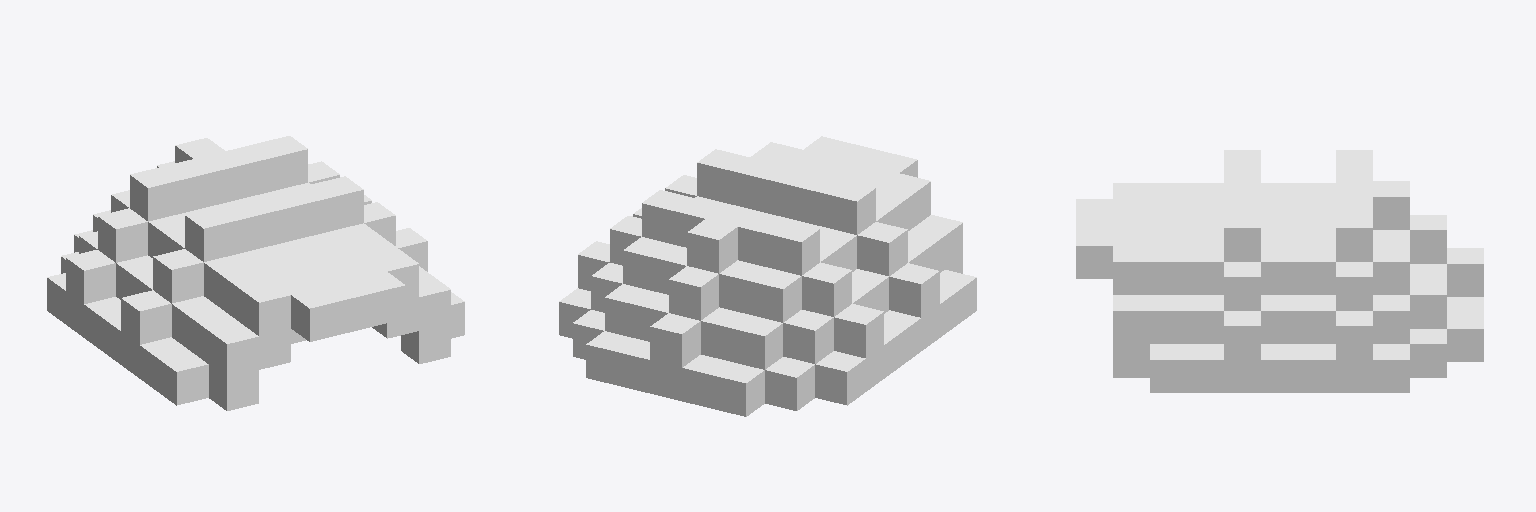
File: Extra-6-GalactixRacer_Cockpit.obj
3 views of the same model, side by side, from view 1: azimuth 30°, elevation 25°; view 2: azimuth 150°, elevation 25°; view 3: azimuth 270°, elevation 25° (orthographic).
Parts seen in each view (by area): view 1: GalactixRacer_Cockpit; view 2: GalactixRacer_Cockpit; view 3: GalactixRacer_Cockpit.
Part boxes in pixels (left/top/right/bottom): GalactixRacer_Cockpit: left=47, top=136, right=464, bottom=410; GalactixRacer_Cockpit: left=559, top=136, right=976, bottom=416; GalactixRacer_Cockpit: left=1076, top=150, right=1483, bottom=392.
Size of the model in its own units: 0.9 by 0.4 by 1.1.